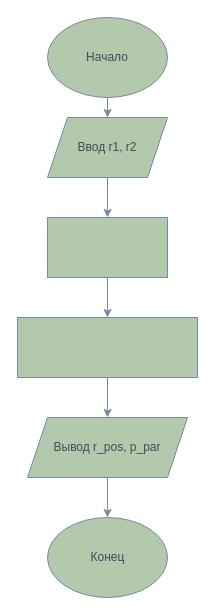
Image size: 215x615. Some labels were removed from this diagram. The centre of each missing label's shape, as x and y in pixels:
"r_par = (r1 * r2) / (r1 + r2)" belongs at [107,347].
"r_pos = r1 + r2" belongs at [107,247].
